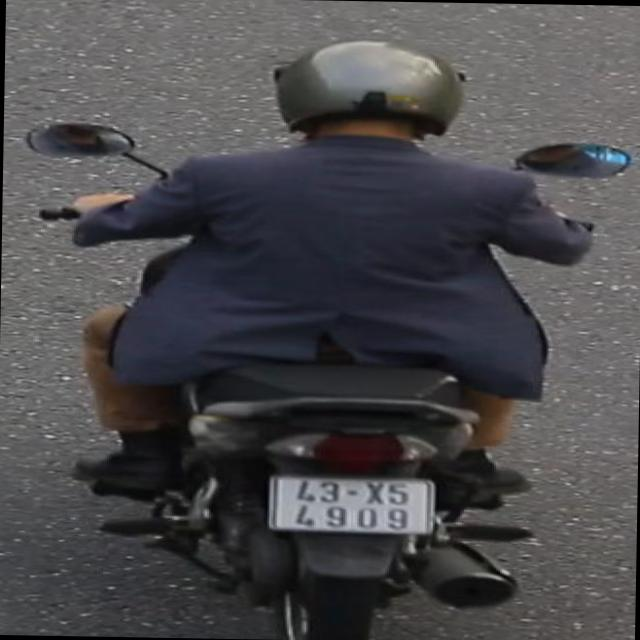LP: (260, 470, 442, 539)
helmet: (262, 32, 474, 154)
